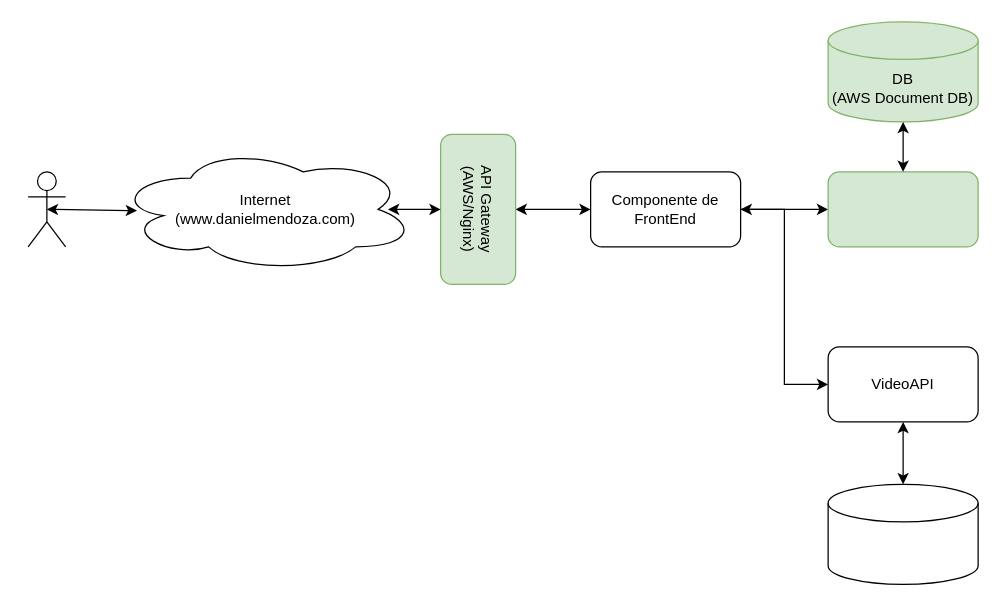
This 1000x606 diagram has some shape labels left out. The centre of each missing label's shape, as x and y in pixels:
"AuthAPI (Java/Python/Go)" goes at (902,209).
"BD (AWS S3/Cassandra)" goes at (902,533).
"Usuario" goes at (46,209).
